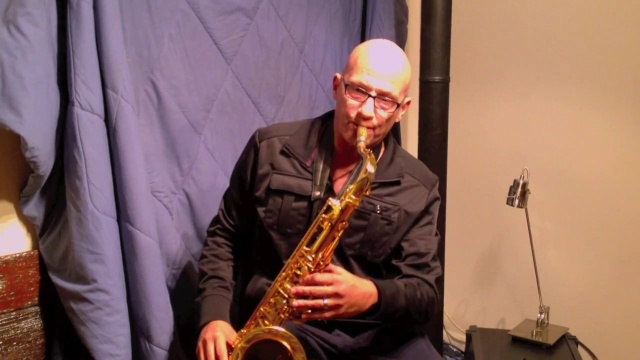person: (193, 34, 444, 358)
